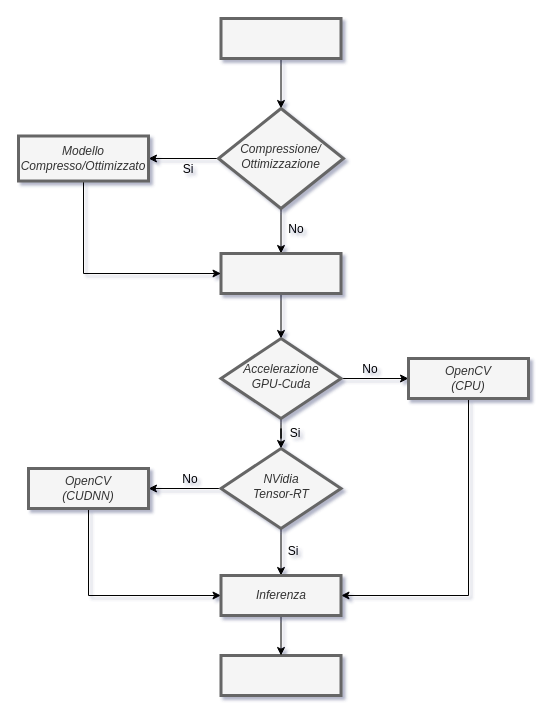
This 553x720 diagram has some shape labels left out. Here are the shapes that lost their labels. From the top down, the centre of each, then its label:
At (280,38): "Modello Iniziale".
At (280,273): "Conversione .pth a .ONNX".
At (280,675): "Benchmarks".
